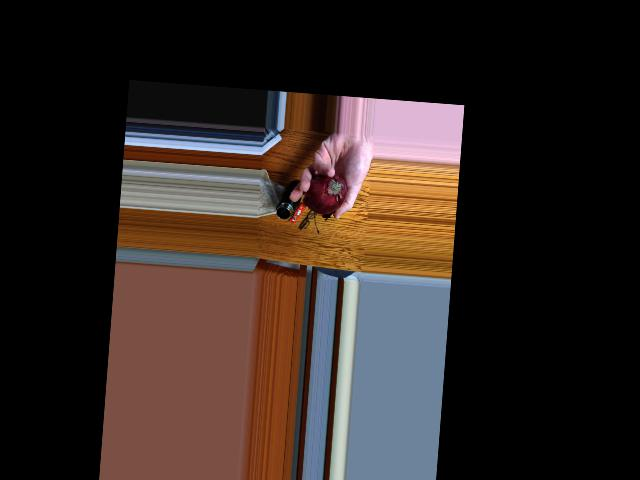onion: (304, 170, 349, 211)
